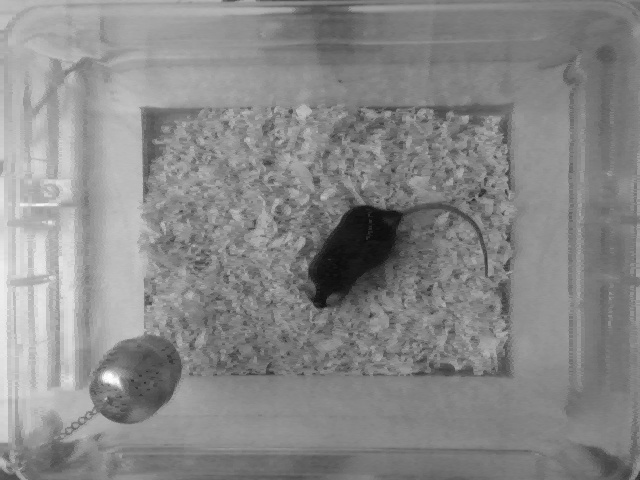mice: (302, 200, 492, 314)
